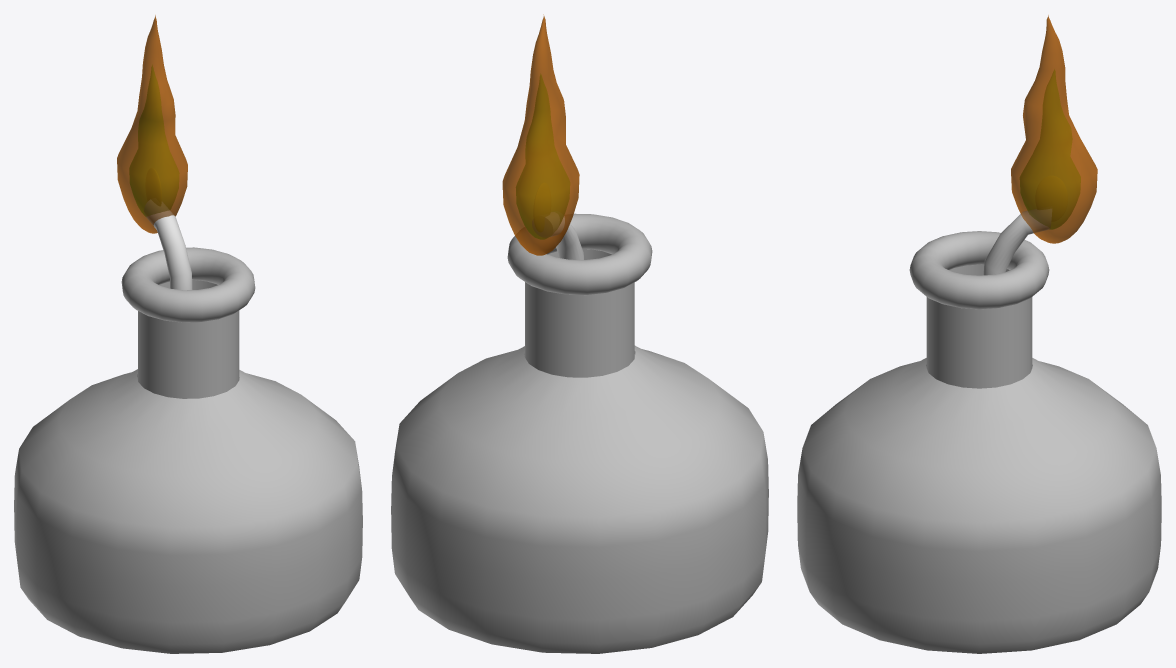
File: FirePotion.fbx
3 renders of one model, left to right at view 1: azimuth 30°, elevation 25°; view 2: azimuth 150°, elevation 25°; view 3: azimuth 270°, elevation 25°, orthographic. The views are drawn at different scales.
Visible parts, largest first — view 1: pasted__pTorus21; view 2: pasted__pTorus21; view 3: pasted__pTorus21.
Boxes of the visible parts, <box> form: pasted__pTorus21: <box>14,15,362,653</box>; pasted__pTorus21: <box>391,14,768,653</box>; pasted__pTorus21: <box>797,15,1161,653</box>.
Bounding box in the file's own units: 3.98 × 6.84 × 3.98.
